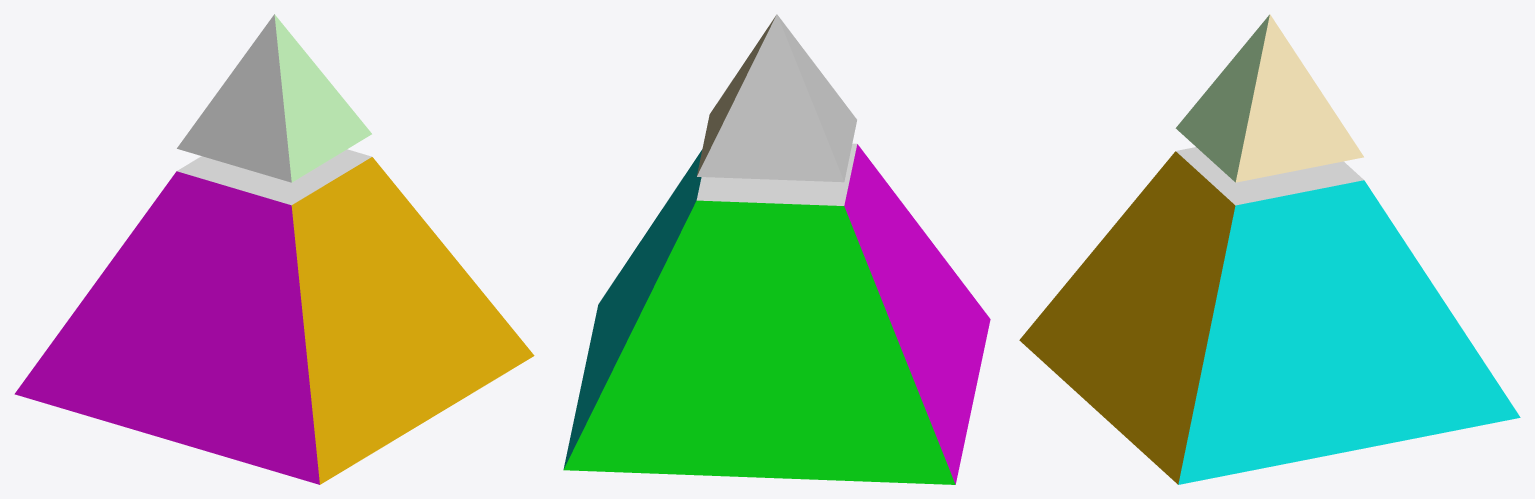
Rendered from PyramidSeparate.00d9201f.glb.
The picture shows the model from 3 angles, left to right: view 1: azimuth 30°, elevation 25°; view 2: azimuth 150°, elevation 25°; view 3: azimuth 270°, elevation 25°; orthographic projection. The views are drawn at different scales.
Parts seen in each view (by area): view 1: Face_2, Face_3, Pyramid_haut, Face_1; view 2: Face_1, Face_2, Pyramid_haut, Face_4; view 3: Face_4, Face_3, Pyramid_haut, Face_1.
Boxes of the visible parts, x1,y1,x2,y2 form: Face_2: (14,171,319,484); Face_3: (291,157,534,484); Pyramid_haut: (177,14,371,182); Face_1: (177,149,371,205); Face_1: (563,143,955,484); Face_2: (844,144,990,484); Pyramid_haut: (697,14,856,182); Face_4: (563,149,702,469); Face_4: (1178,180,1520,484); Face_3: (1019,151,1235,484); Pyramid_haut: (1175,14,1363,182); Face_1: (1176,147,1363,205).
Bounding box in the file's own units: 39.85 × 32 × 39.85.
